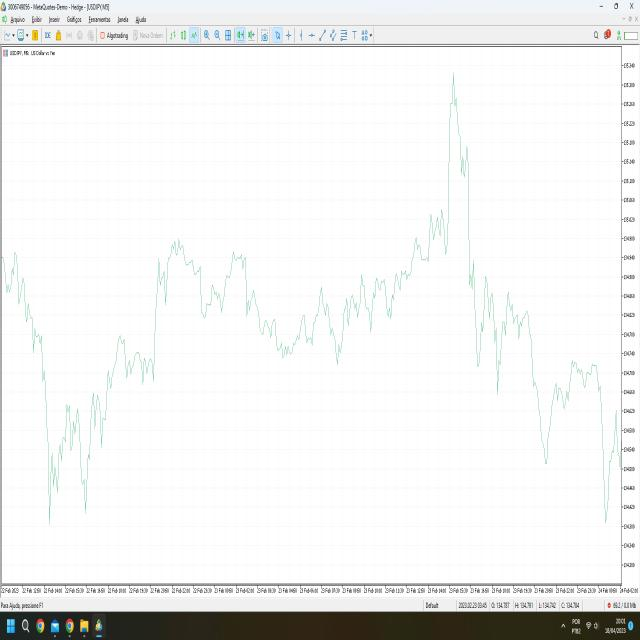bandeira_alta: (148, 236, 193, 378)
fundo_duplo: (38, 369, 95, 543)
oco: (499, 287, 524, 363)
